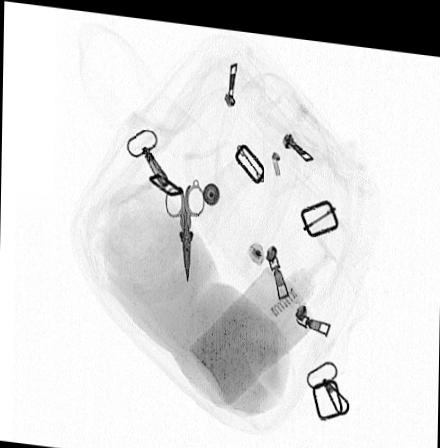Scissors: (162, 173, 205, 281)
